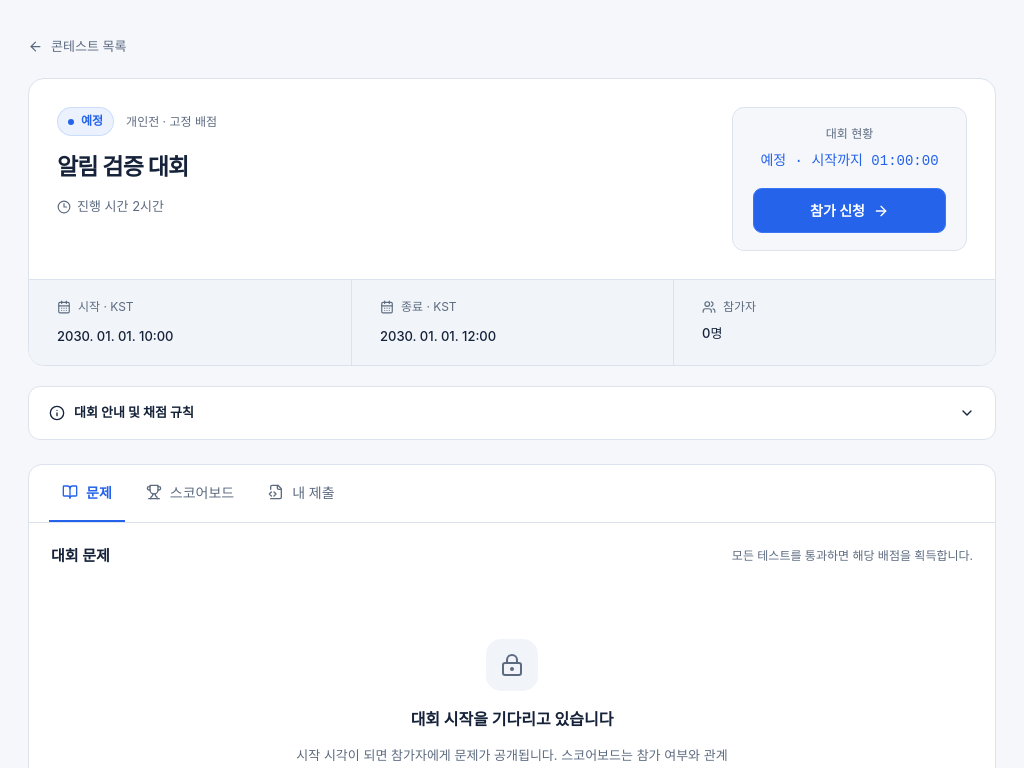
Test case: floating contest notifications › supports explicit dismissal without removing the contest content
The image size is (1024, 768).
Click the button "참가 신청" at (850, 211), box x1=753 y1=188 x2=946 y2=233
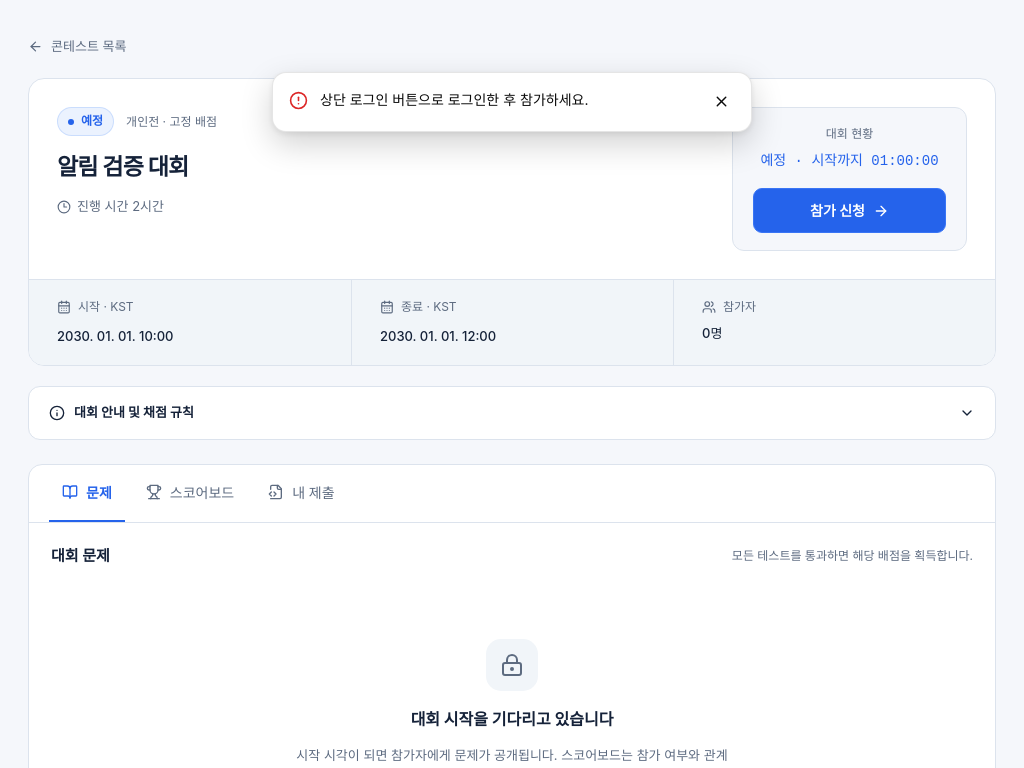
Click the button named "알림 닫기" at (721, 101), box x1=707 y1=87 x2=735 y2=115
Wait 5000 ms
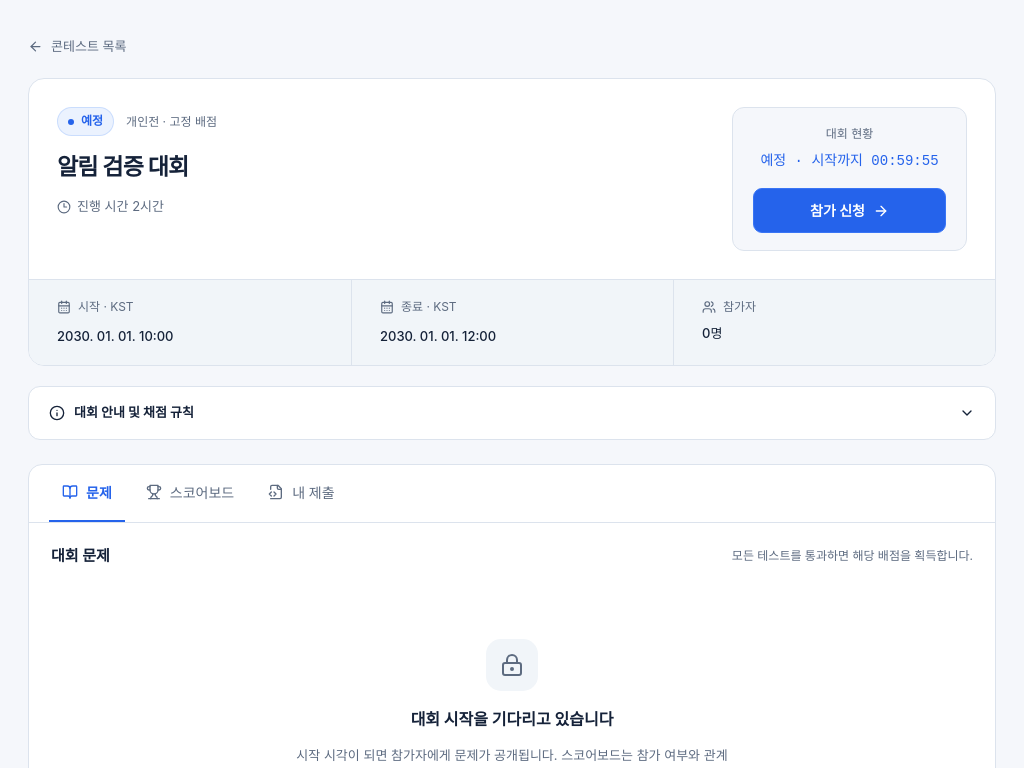
Expected: the heading "알림 검증 대회" is shown, x1=57 y1=153 x2=188 y2=181
Expected: the message "상단 로그인 버튼으로 로그인한 후 참가하세요." is gone
